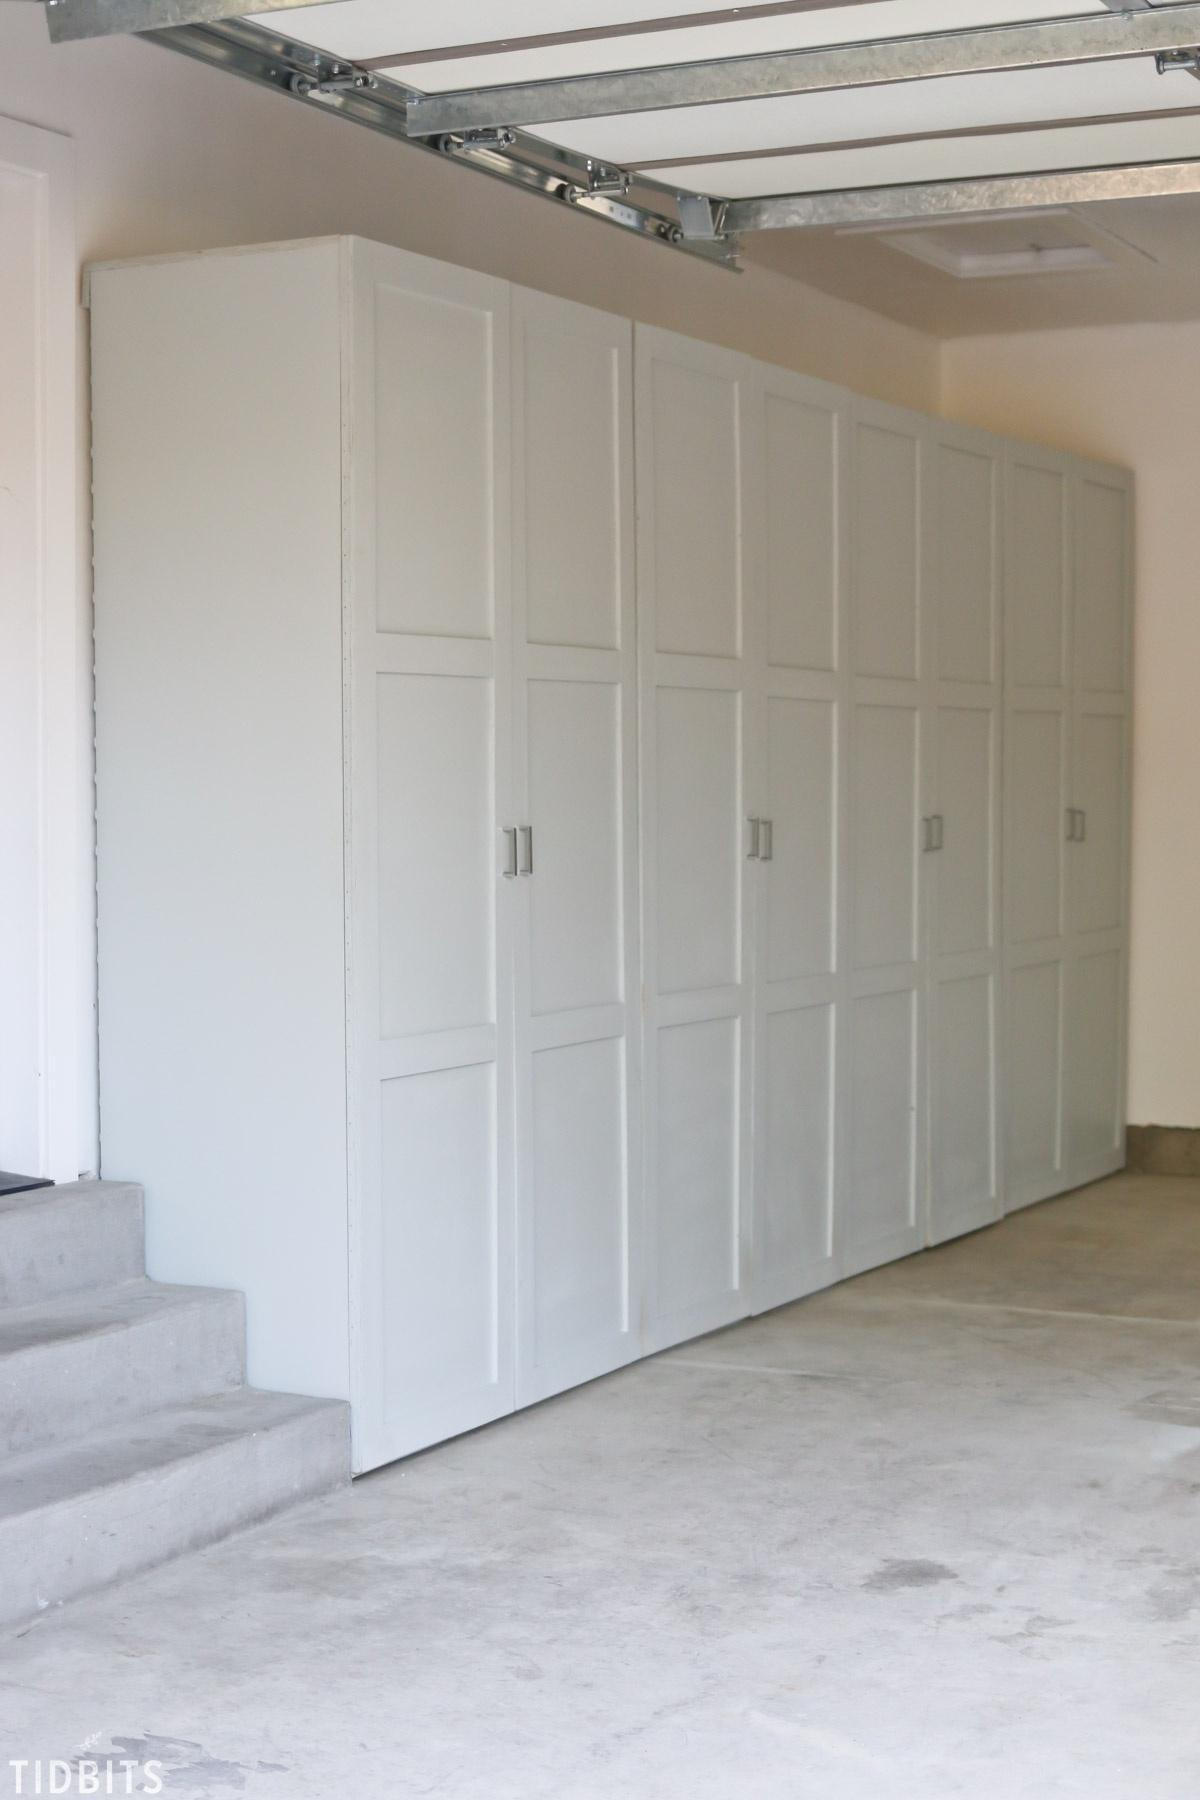cabinet_door: (367, 299, 513, 1420), (518, 331, 625, 1357), (656, 355, 755, 1312), (754, 382, 840, 1282), (842, 427, 925, 1243), (992, 459, 1073, 1172), (920, 458, 995, 1200), (1058, 493, 1133, 1162)
handle: (742, 805, 778, 868), (1059, 787, 1085, 853), (510, 817, 528, 884), (520, 817, 536, 889), (923, 808, 943, 862)
